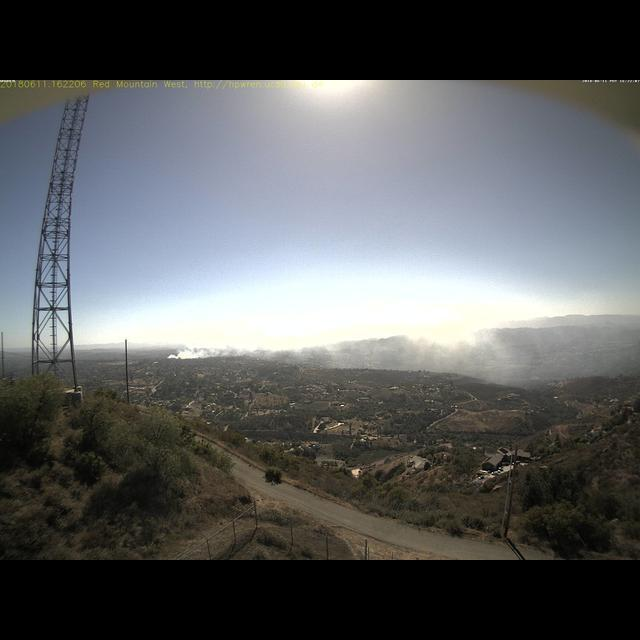Smoke: (164, 310, 518, 381)
